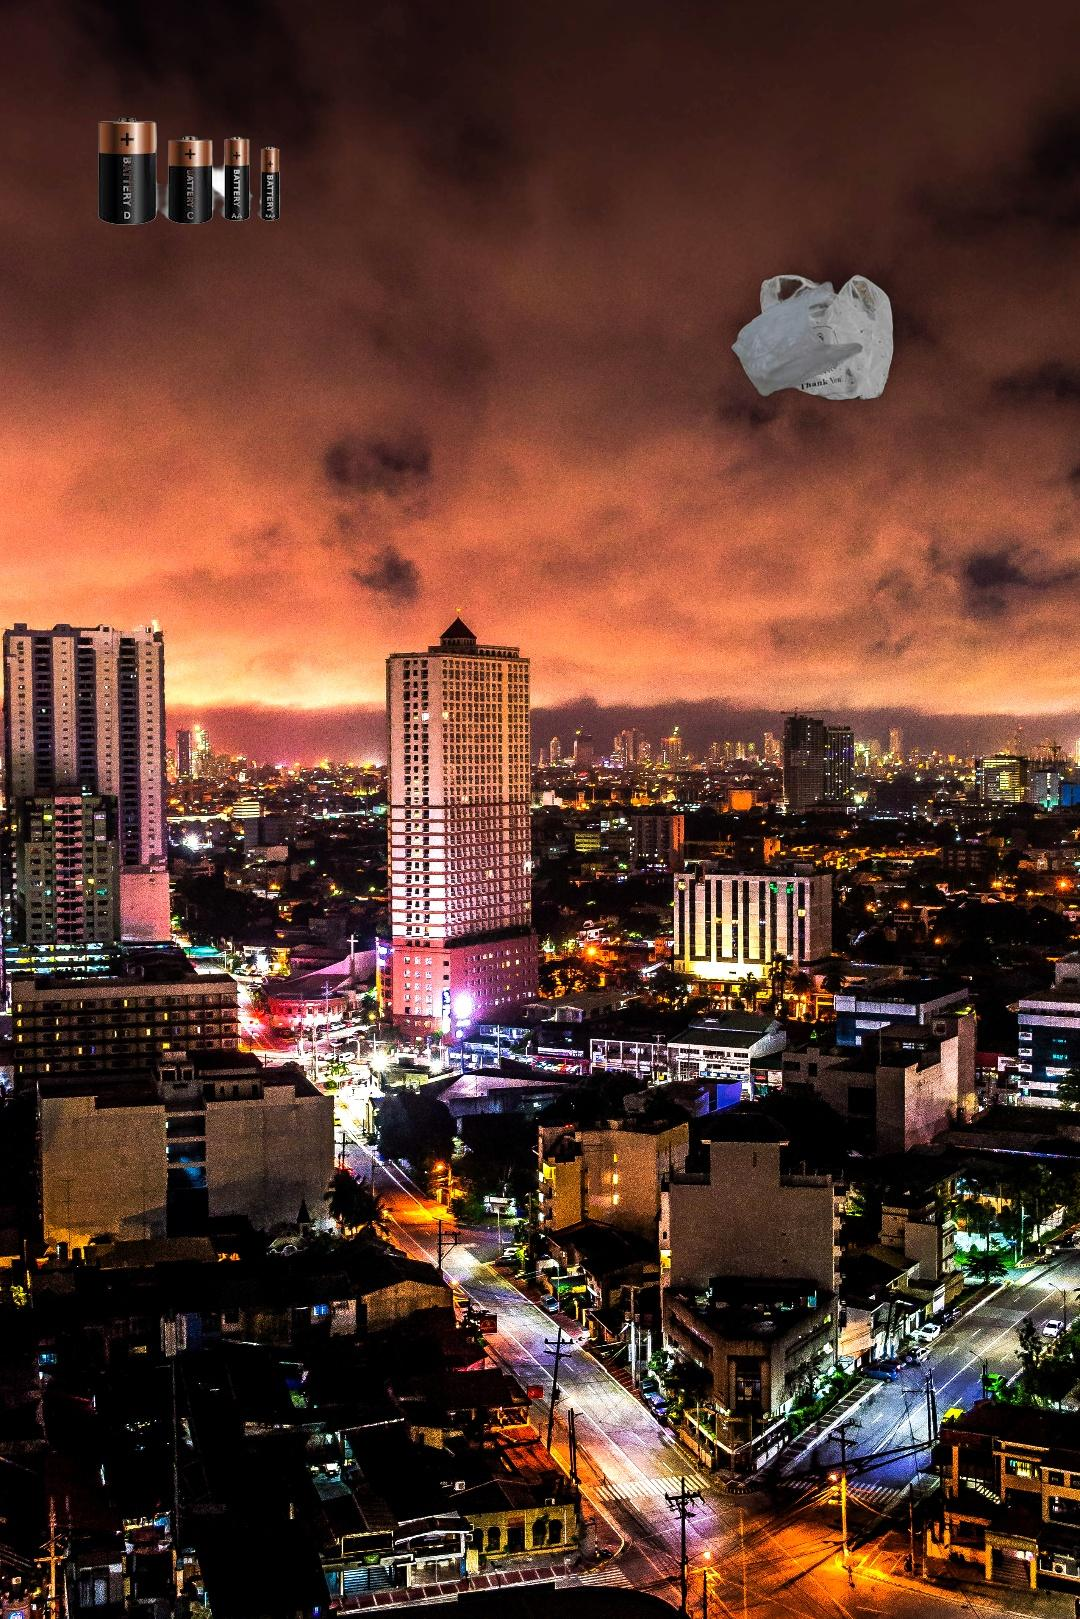battery: (94, 117, 284, 227)
plastic-bag: (728, 271, 896, 404)
